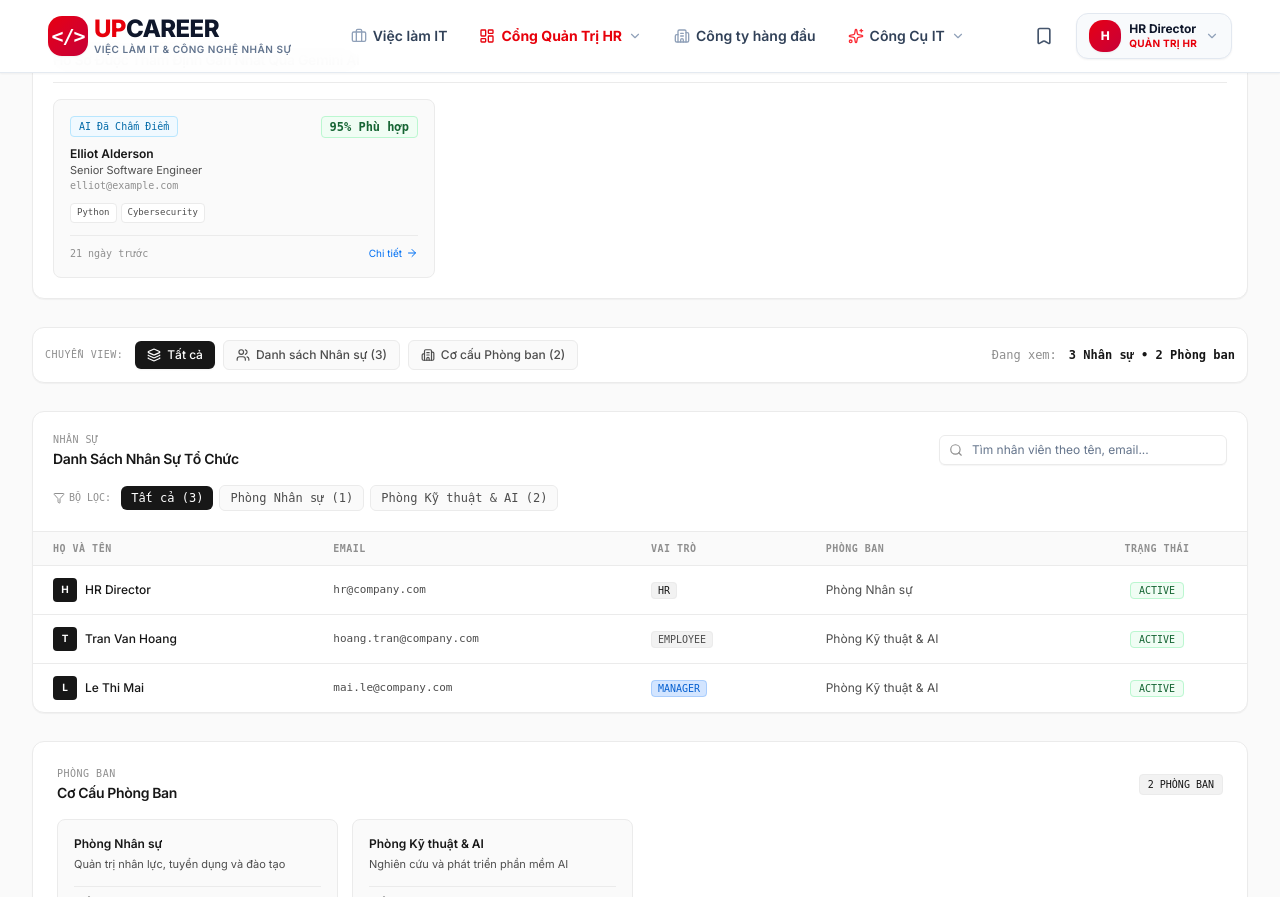
Test: DashboardPage - Chức Năng Bảng Điều Khiển Quản Lý › 6. Lọc danh sách nhân viên theo ô tìm kiếm (Search Filter)
(page scrolled)
expect the text "Tran Van Hoang" is shown: met, box [85, 631, 177, 647]
expect the text "Le Thi Mai" is shown: met, box [85, 680, 144, 696]
In the field with placeholder "Tìm nhân viên theo tên, email...": (1083, 450) [939, 435, 1227, 465], type "hoang"
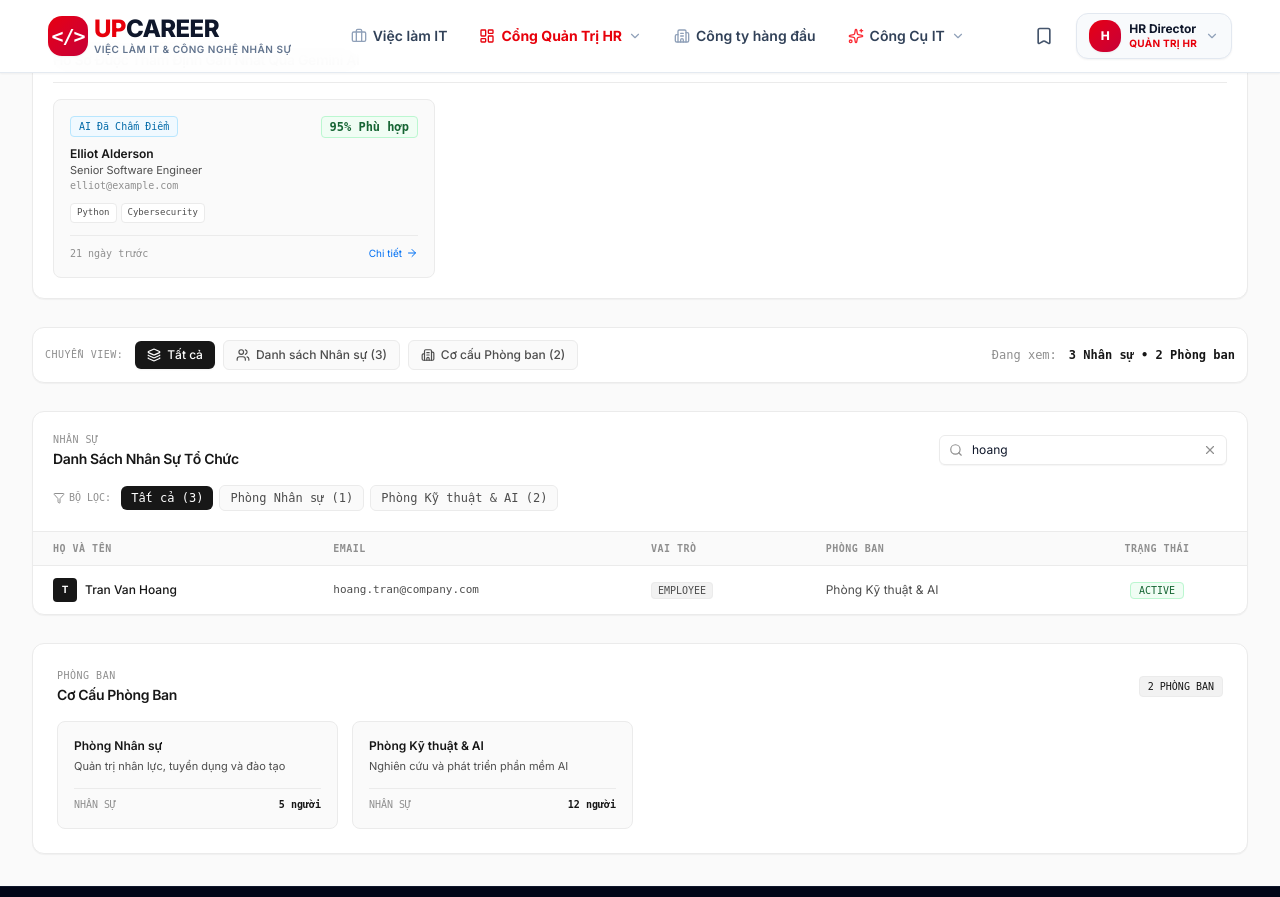
expect the text "Tran Van Hoang" is shown: met, box [85, 582, 177, 598]
expect the text "Le Thi Mai" is gone: met
